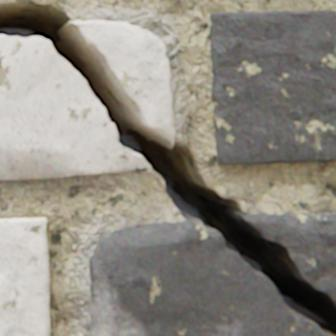brick: (207, 10, 335, 164), (0, 217, 50, 335)
broken_brick: (88, 218, 333, 335), (0, 35, 149, 179), (69, 20, 173, 143), (241, 209, 335, 305)
crack: (0, 0, 335, 335)
